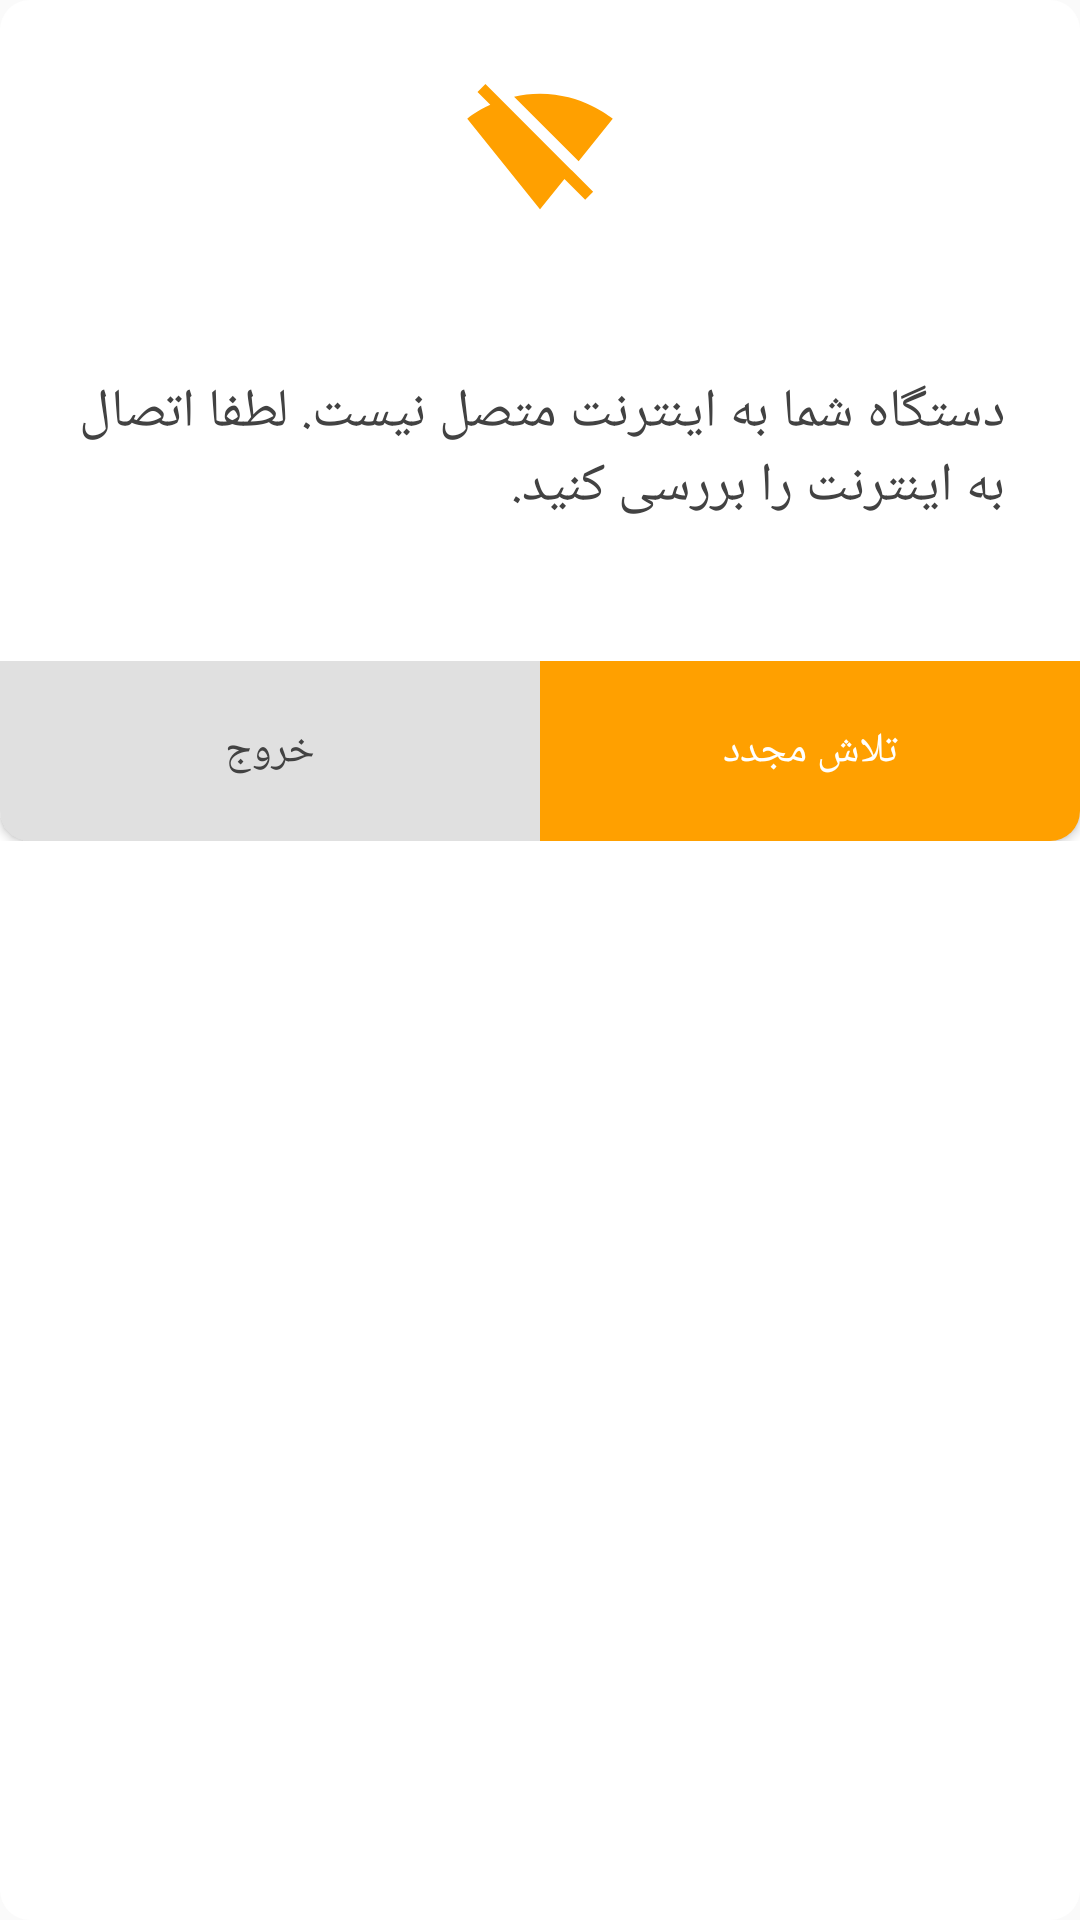

Where icons sit on this 1080w x 1920h app screen, as BBox(x1, y1, x2, y2):
wifi: BBox(467, 84, 613, 209)
